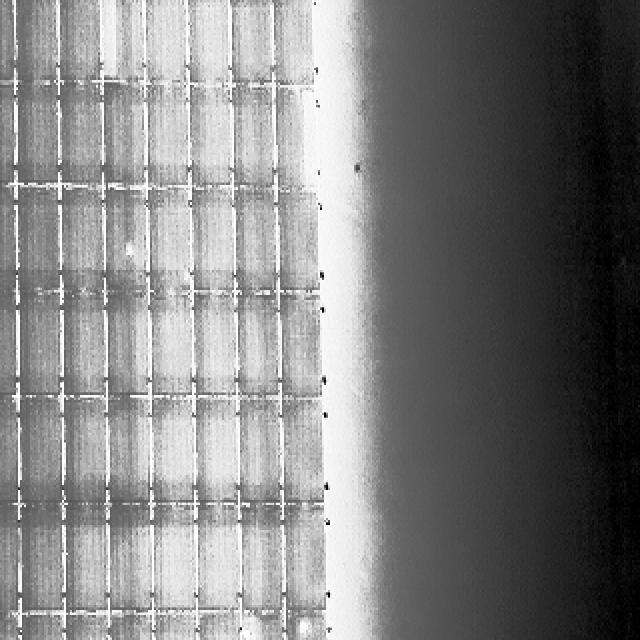Hotspots: (242, 617, 260, 640), (294, 619, 312, 635), (123, 239, 134, 256)
PV-modules: (282, 505, 328, 618), (19, 289, 68, 395), (21, 396, 69, 504), (21, 505, 68, 614), (62, 506, 108, 616), (240, 507, 286, 617), (106, 395, 152, 504), (150, 505, 196, 613), (190, 192, 236, 300), (108, 506, 153, 616), (194, 395, 239, 504), (60, 289, 106, 395), (58, 185, 103, 293), (196, 505, 241, 613), (61, 396, 106, 504), (280, 397, 325, 504), (156, 395, 200, 504), (240, 396, 284, 504), (106, 186, 150, 294), (19, 184, 63, 292), (146, 187, 190, 295), (57, 84, 102, 189), (237, 186, 281, 293), (236, 296, 281, 400), (274, 87, 318, 192), (104, 84, 148, 188), (106, 295, 150, 399), (279, 294, 323, 398), (153, 291, 197, 395), (192, 291, 236, 395), (188, 88, 232, 191), (17, 83, 61, 186), (234, 88, 278, 191), (277, 189, 320, 293), (144, 85, 187, 188), (226, 0, 274, 84), (187, 0, 233, 87), (57, 0, 105, 80), (270, 2, 314, 88), (14, 0, 61, 80), (142, 2, 186, 87), (103, 0, 147, 81), (0, 290, 18, 395), (0, 502, 16, 618), (0, 182, 16, 292), (0, 395, 14, 505), (0, 80, 12, 188), (0, 0, 16, 78), (108, 612, 152, 640), (150, 615, 196, 640), (196, 615, 242, 640), (22, 615, 68, 640), (62, 615, 108, 640), (242, 615, 288, 640), (282, 617, 326, 640), (0, 617, 20, 640)
